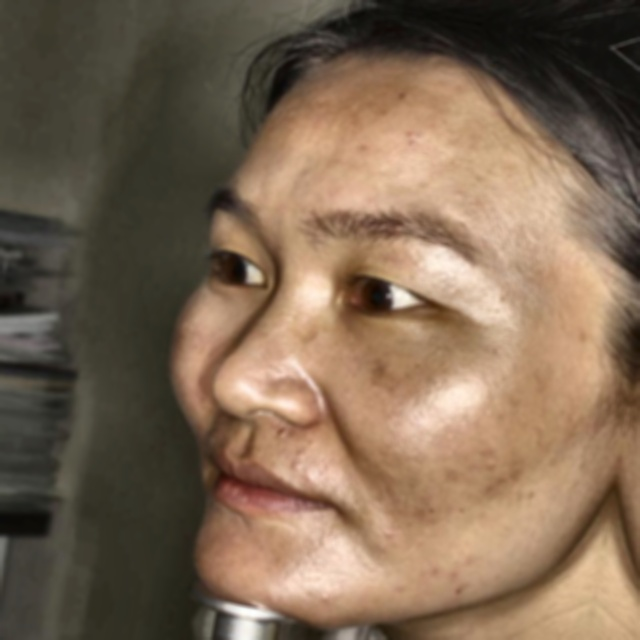comedone: (383, 115, 424, 158), (443, 566, 469, 594)
